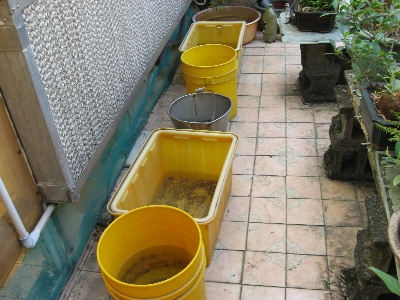bottle: (261, 2, 279, 44)
bowl: (191, 3, 262, 45)
box: (106, 126, 239, 268), (179, 20, 246, 73), (293, 1, 336, 32)
bucket: (96, 204, 209, 300), (180, 43, 238, 121), (167, 87, 232, 132)
